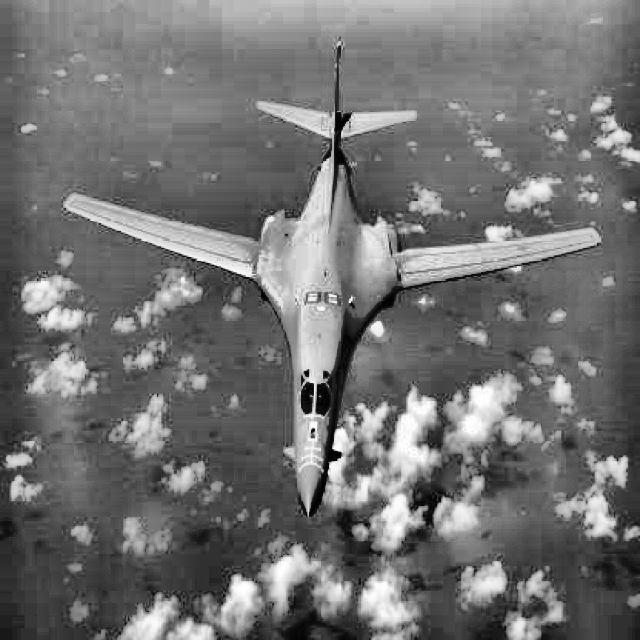B1: (63, 42, 602, 520)
